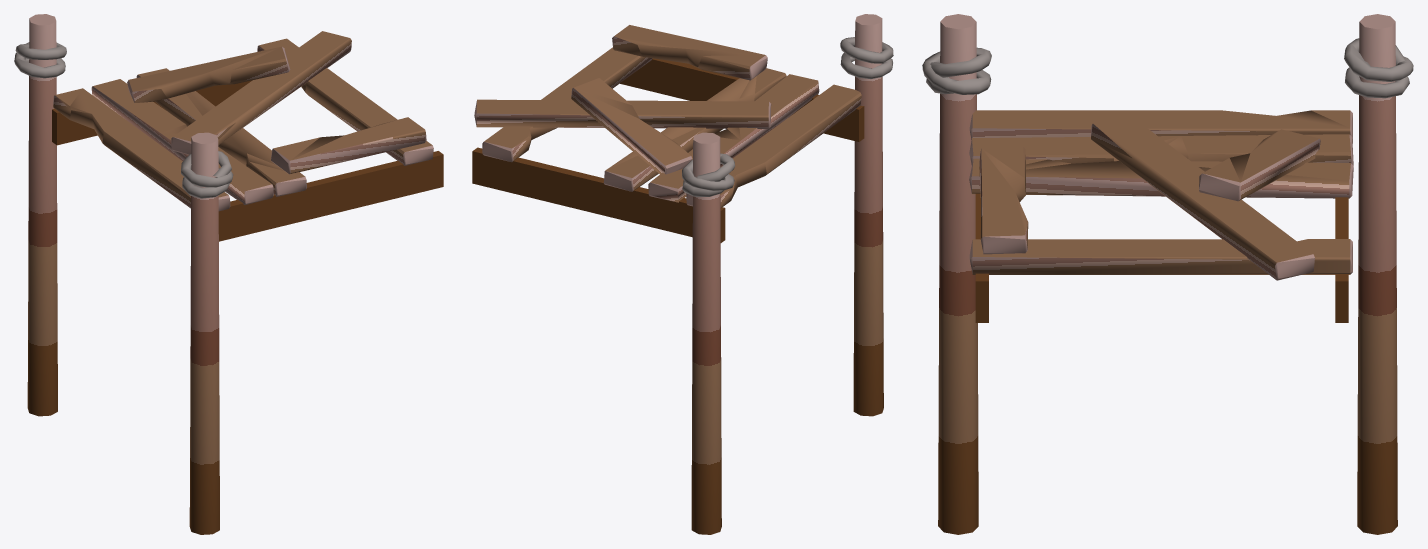
The model's file is Environment_Dock_Broken.gltf.
3 views of the same model, side by side, from view 1: azimuth 30°, elevation 25°; view 2: azimuth 150°, elevation 25°; view 3: azimuth 270°, elevation 25° (orthographic). The views are drawn at different scales.
Visible parts, largest first — view 1: Environment_Dock_Broken; view 2: Environment_Dock_Broken; view 3: Environment_Dock_Broken.
Part boxes in pixels (x1,y1,x2,y2): Environment_Dock_Broken: (14, 14, 443, 534); Environment_Dock_Broken: (472, 14, 893, 534); Environment_Dock_Broken: (922, 14, 1413, 534).
Size of the model in its own units: 2.38 by 3.01 by 2.66.
1 material, 1 textured.
